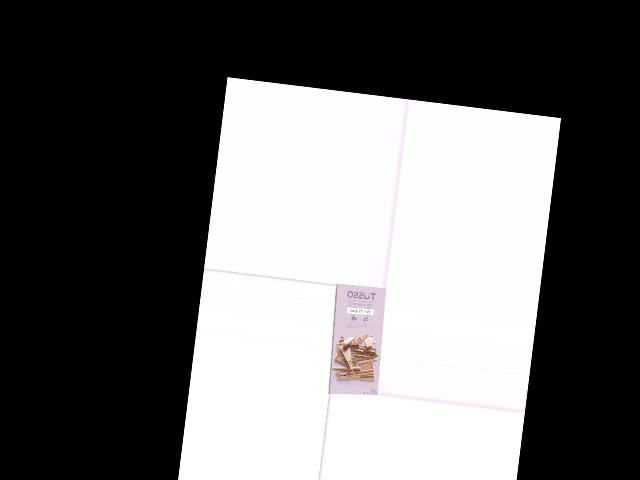chocolate: (326, 284, 387, 399)
